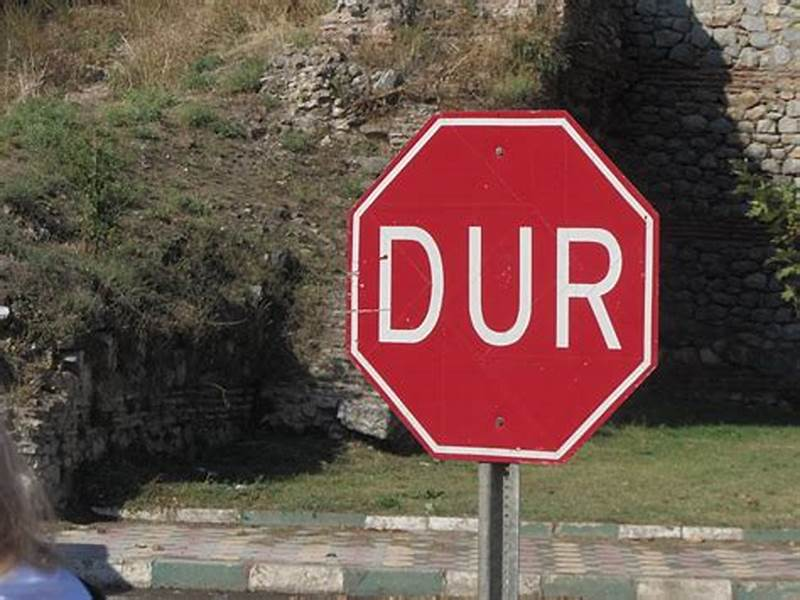dur: (349, 112, 669, 468)
